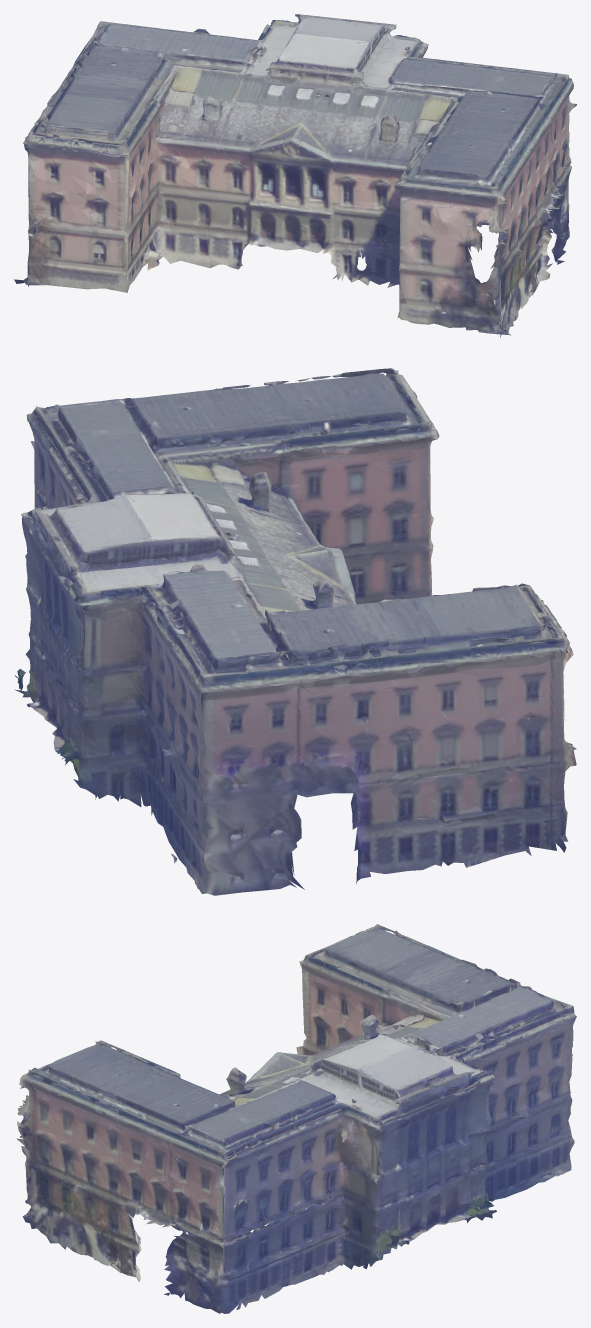
The model's file is uni-bastions.glb.
3 renders of one model, top to bottom at view 1: azimuth 30°, elevation 25°; view 2: azimuth 150°, elevation 25°; view 3: azimuth 270°, elevation 25°, orthographic. The views are drawn at different scales.
Bounding box in the file's own units: 77.97 × 27.86 × 78.34.
Materials: 3 (3 with a texture image).
